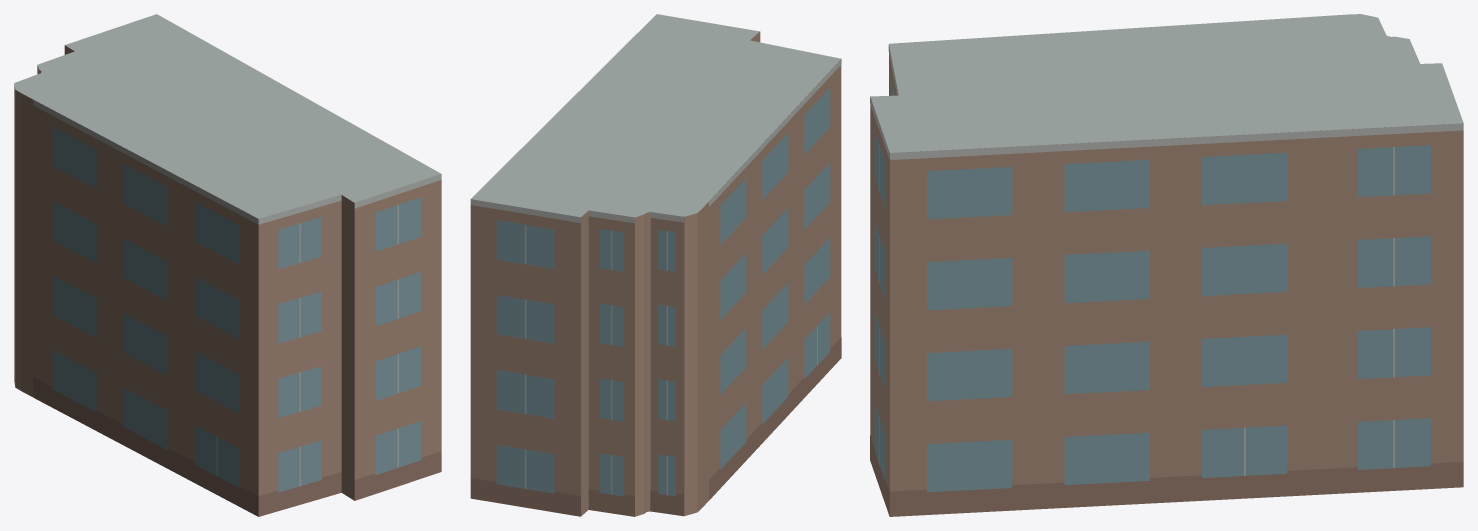
File: survey-upis-32717029.glb
The picture shows the model from 3 angles, left to right: view 1: azimuth 30°, elevation 25°; view 2: azimuth 150°, elevation 25°; view 3: azimuth 270°, elevation 25°; orthographic projection. The views are drawn at different scales.
Visible parts, largest first — view 1: survey-upis-32717029.tmp; view 2: survey-upis-32717029.tmp; view 3: survey-upis-32717029.tmp.
Boxes of the visible parts, box(x1,y1,x2,y2) form: survey-upis-32717029.tmp: box(14, 14, 441, 516); survey-upis-32717029.tmp: box(470, 14, 841, 516); survey-upis-32717029.tmp: box(870, 14, 1463, 516).
Size of the model in its own units: 10.25 by 12.5 by 18.49.
